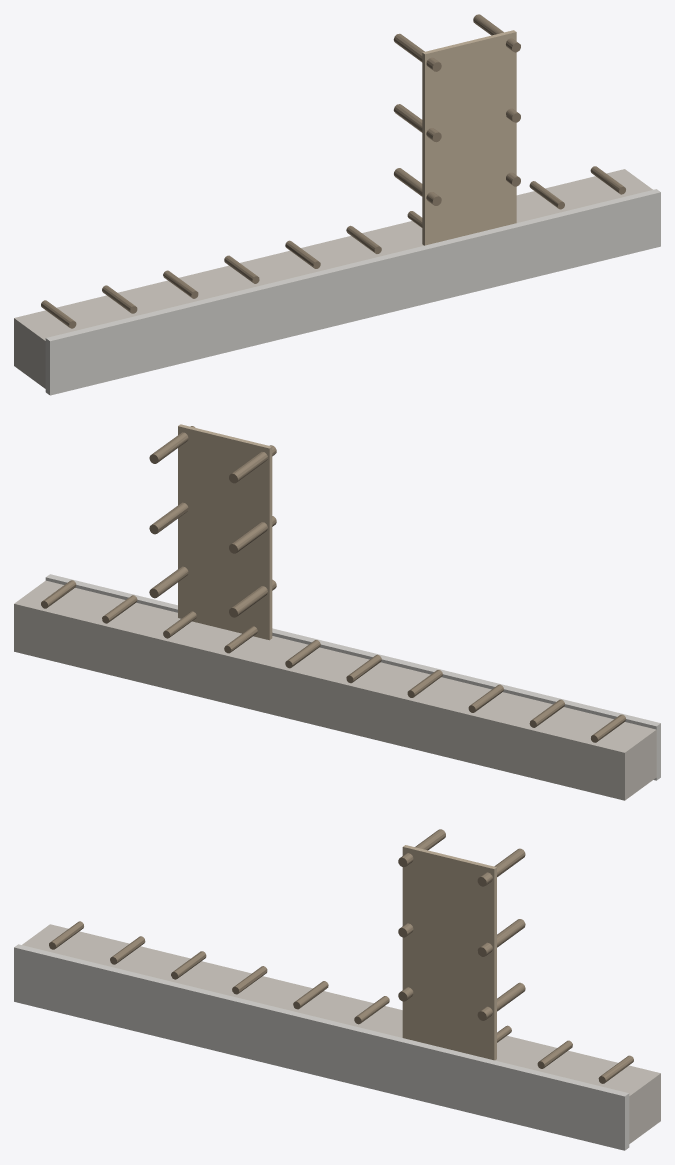
The model's file is r-124-alster-quay-wall-jetty.glb.
3 views of the same model, one above another, from view 1: azimuth 30°, elevation 25°; view 2: azimuth 150°, elevation 25°; view 3: azimuth 330°, elevation 25° (orthographic).
Visible parts, largest first — view 1: coping, jetty-deck, quay-wall, piles; view 2: quay-wall, jetty-deck, piles, coping; view 3: coping, jetty-deck, quay-wall, piles.
Boxes of the visible parts, x1,y1,x2,y2 form: coping: (45,189,660,395); jetty-deck: (422,30,516,245); quay-wall: (14,169,652,388); piles: (41,14,625,328); quay-wall: (14,580,656,800); jetty-deck: (178,424,272,640); piles: (41,426,625,742); coping: (45,574,660,780); coping: (14,944,629,1150); jetty-deck: (402,845,496,1060); quay-wall: (22,924,660,1143); piles: (49,829,633,1083).
Size of the model in its own units: 20000 by 7600 by 2249.
